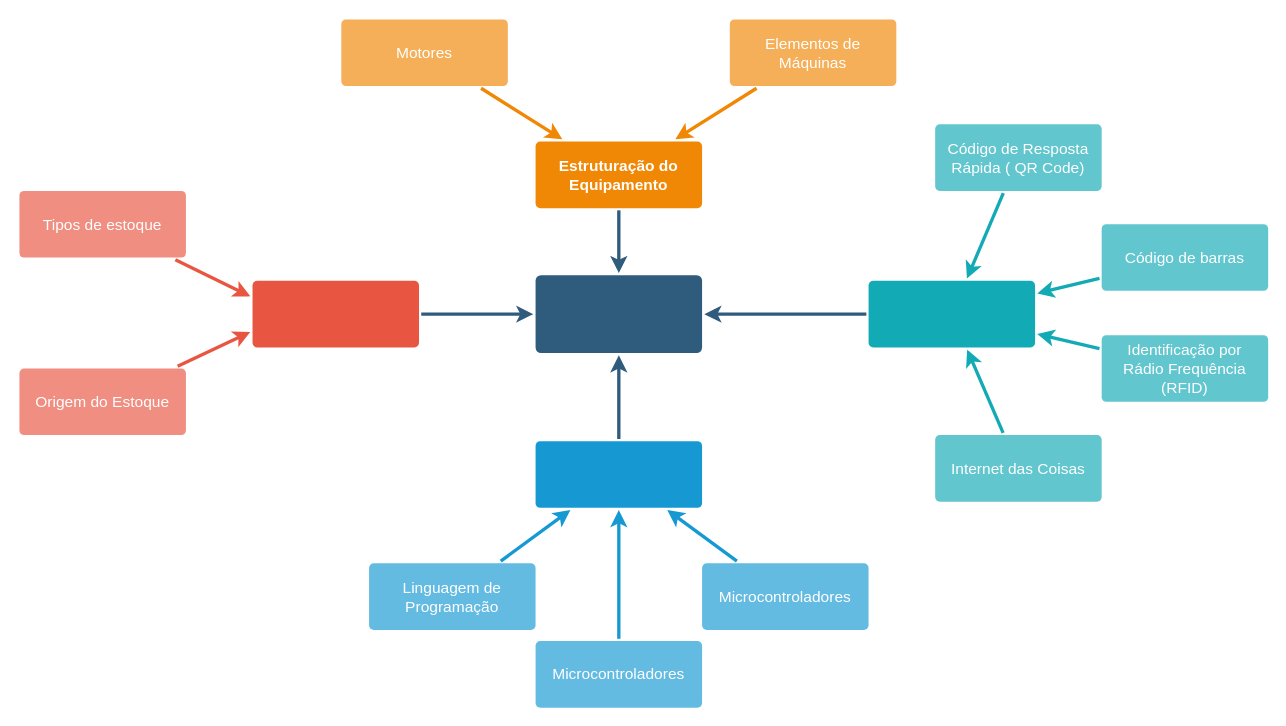
Some shapes in this 1286 by 726 pixel diagram are drawn without their labels. Here are the shapes that lost their labels. From the top down, the centre of each, then its label:
(335,313): Logística e Estoque
(618,313): Dispositivo de Almoxarifado Inteligente
(951,313): Aquisição e Transmissão de dados
(618,474): Sistema Embarcado
